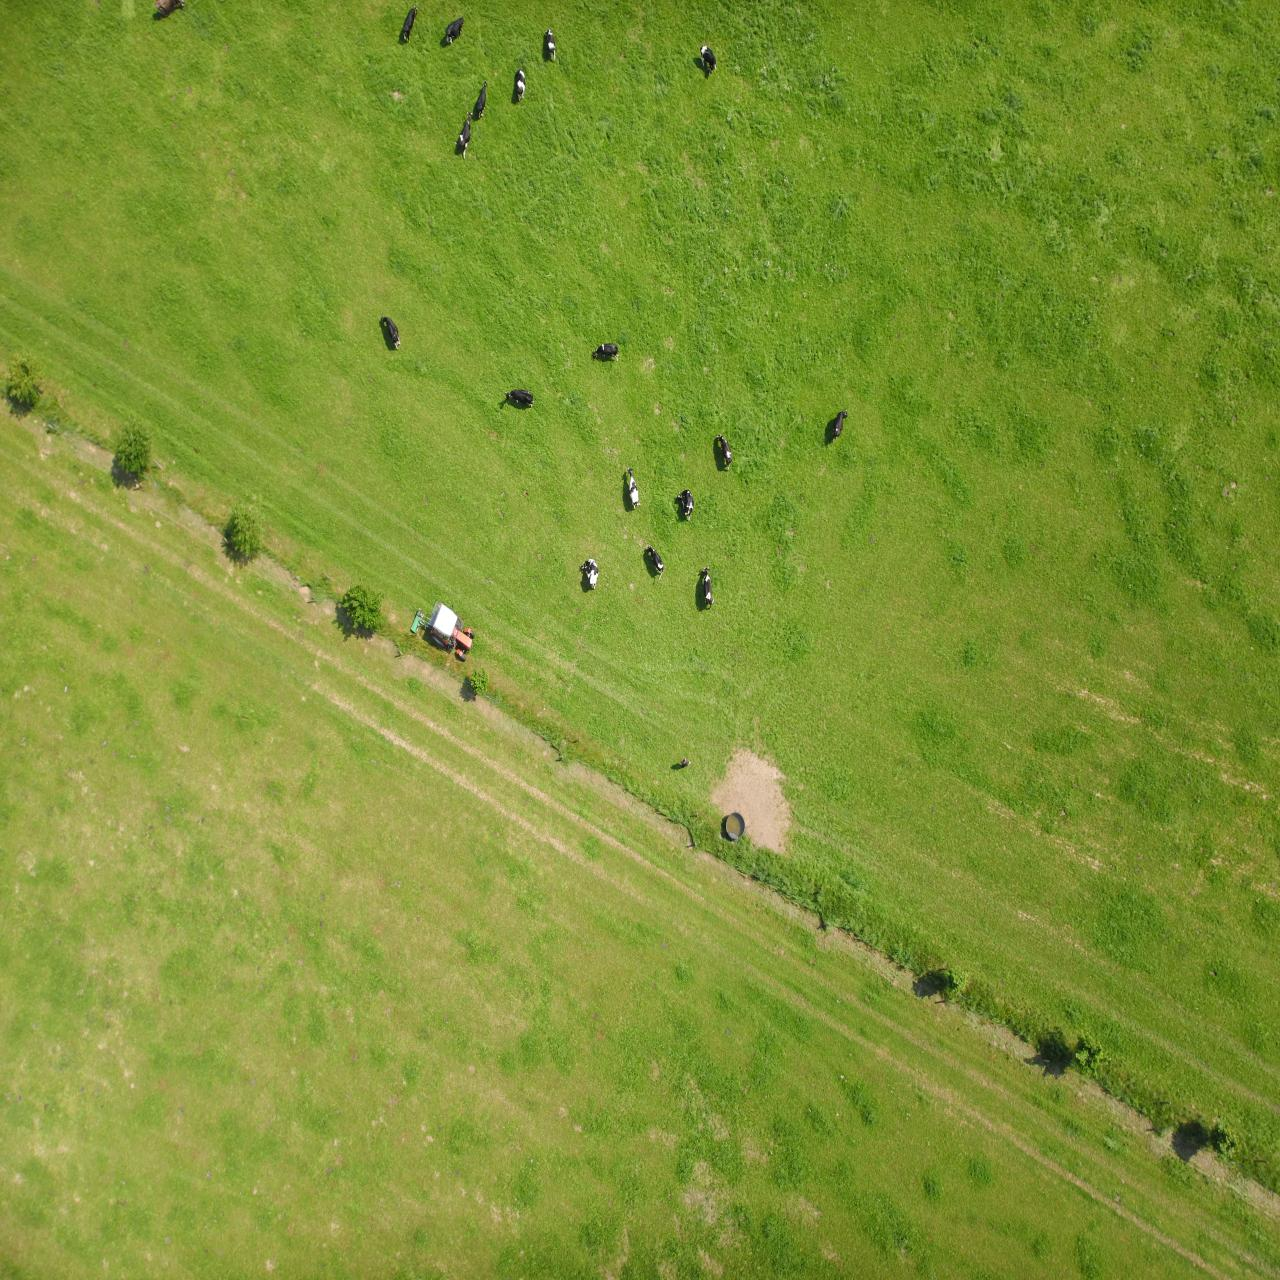cow: (879, 928, 898, 964), (614, 700, 632, 735), (547, 809, 564, 845), (639, 770, 653, 812), (681, 689, 699, 721), (745, 872, 775, 890), (586, 758, 601, 790), (566, 670, 577, 714), (661, 919, 687, 937), (433, 839, 447, 870)
